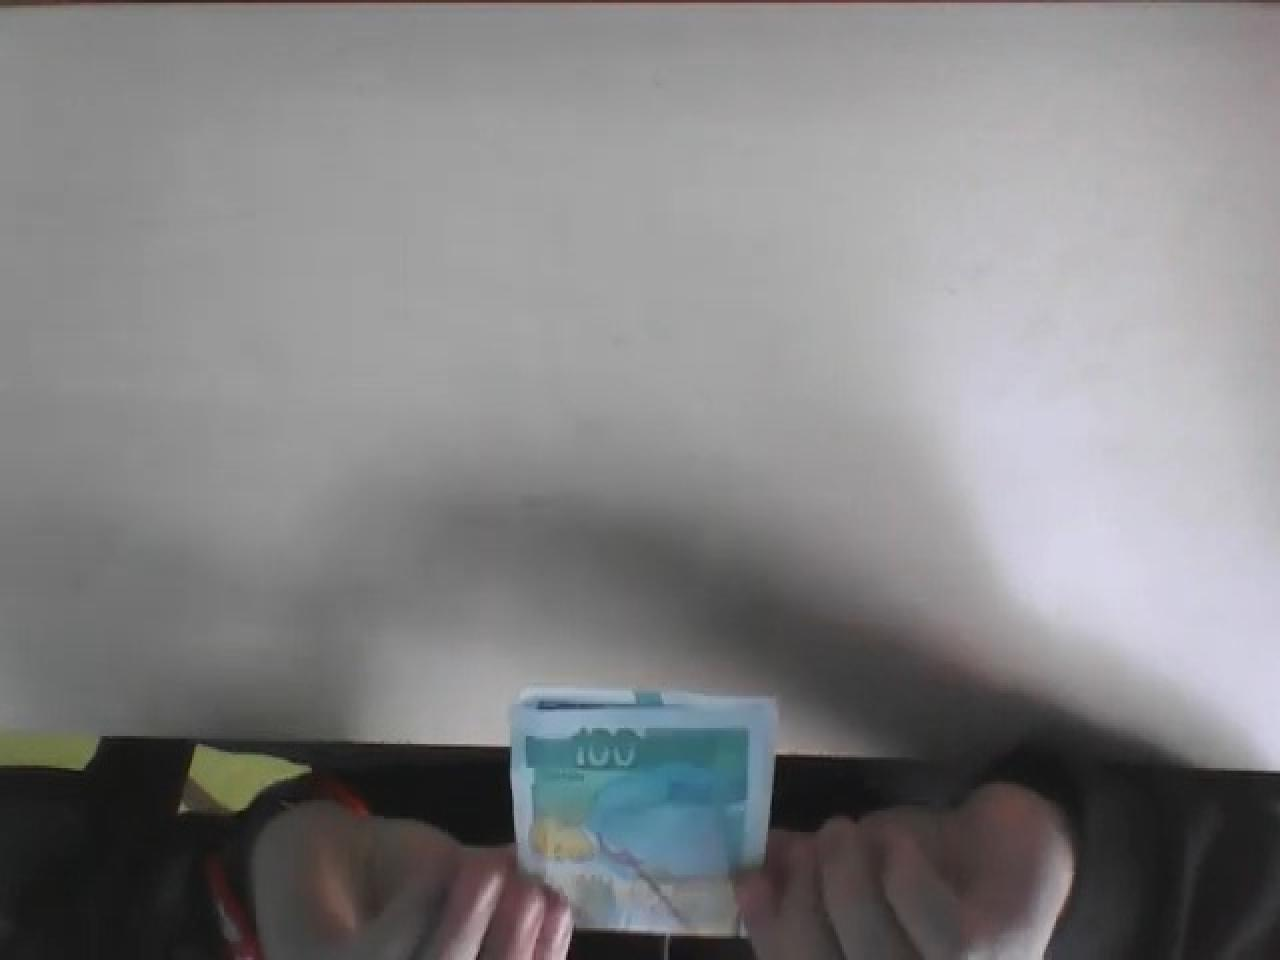100leva: (506, 683, 776, 939)
